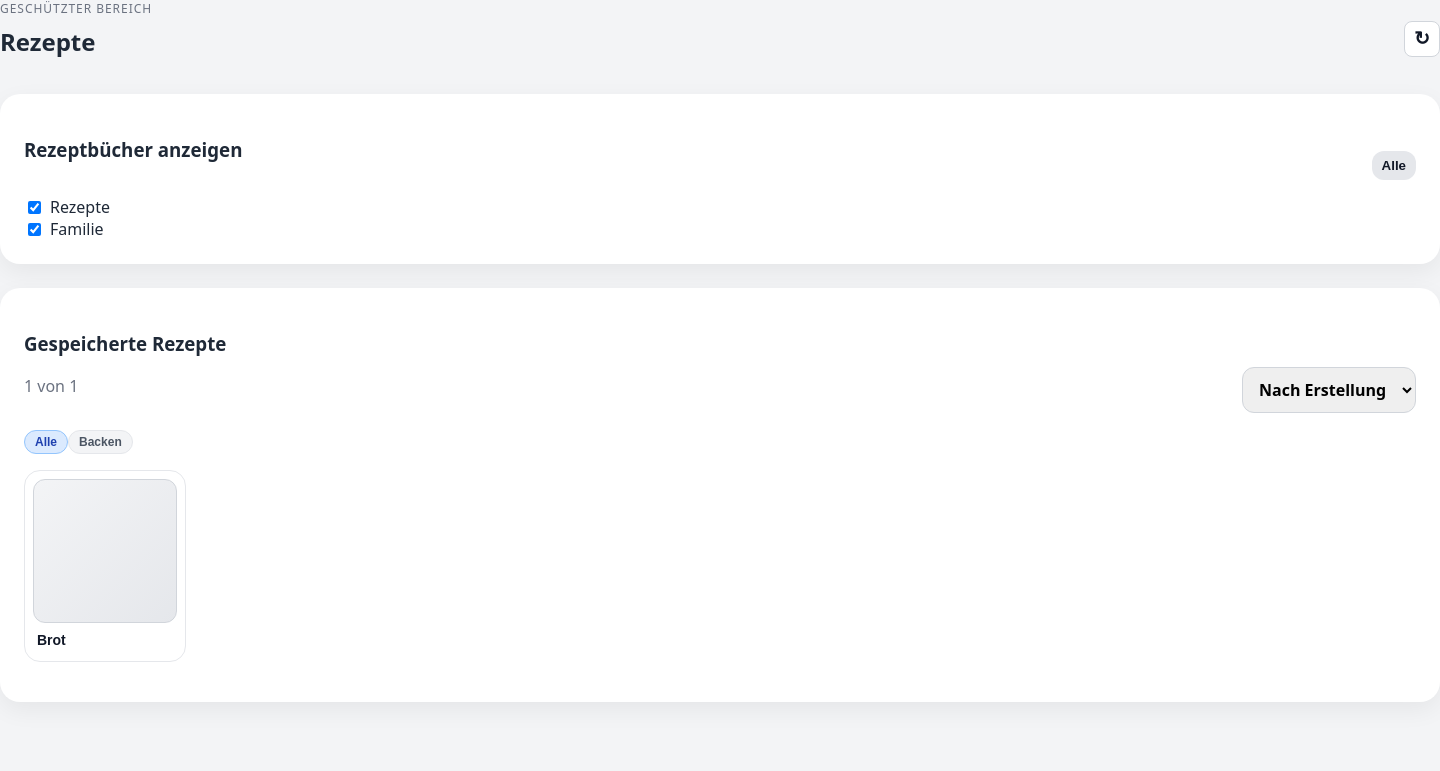
Test case: RecipeSection › refreshes recipe overview after saving an edited recipe
Expected: the text "Brot" is shown, [37,632,66,648]
Click the button with aria-label "Rezept anzeigen Brot".
click(105, 566)  # box [24,470,186,662]
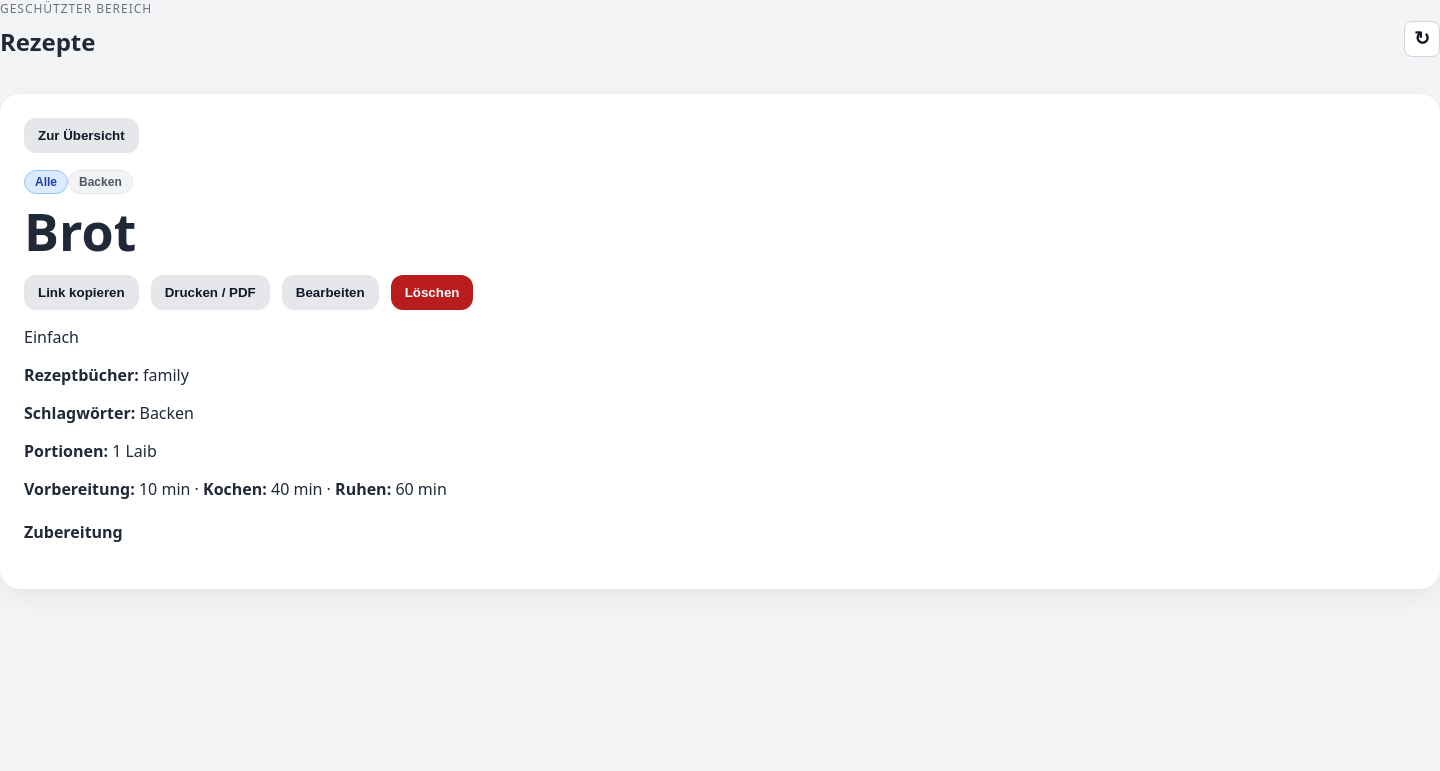
Click the button "Bearbeiten".
click(330, 293)  # box [282,275,379,310]
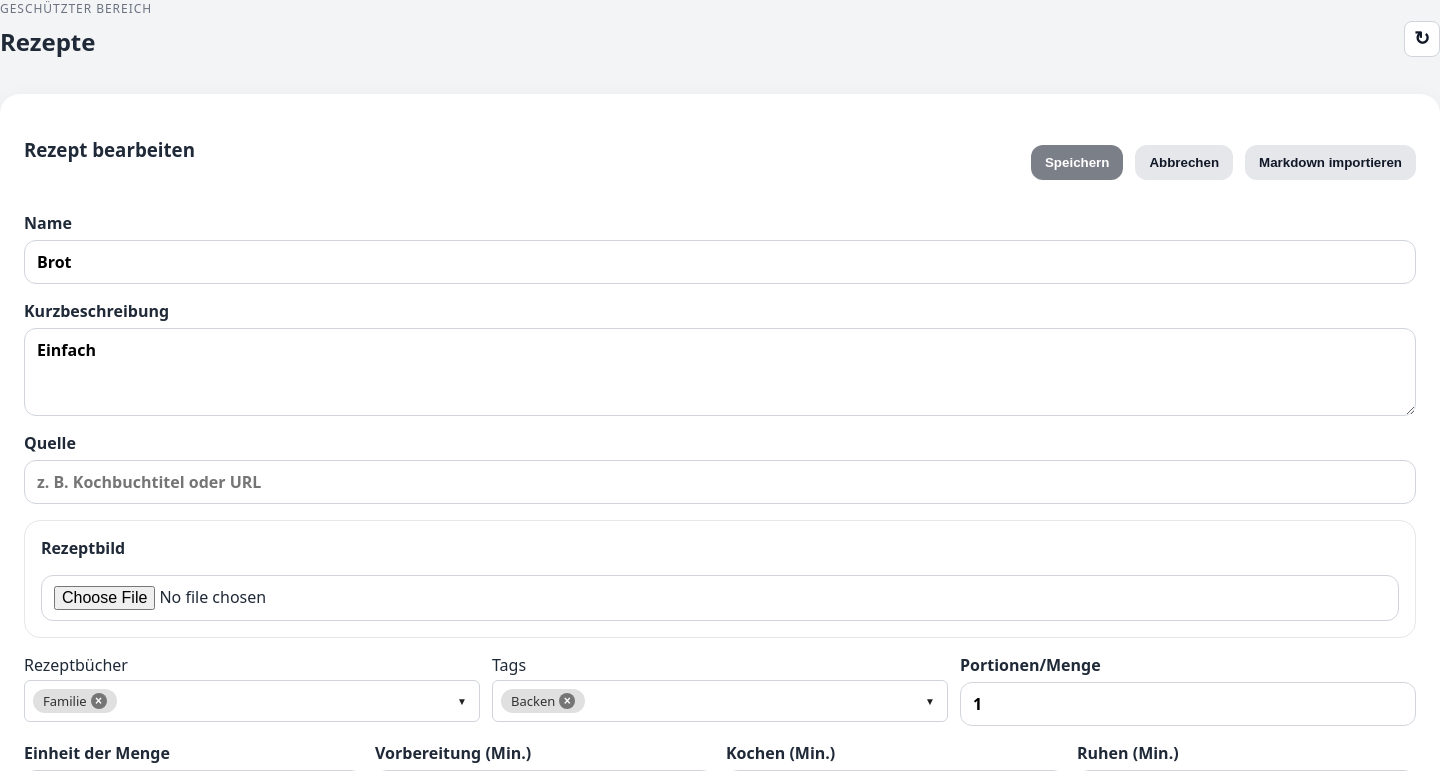
Replace the text in the field labelled "Name" with "Brot verbessert" at (720, 262), box [24,240,1416,284]
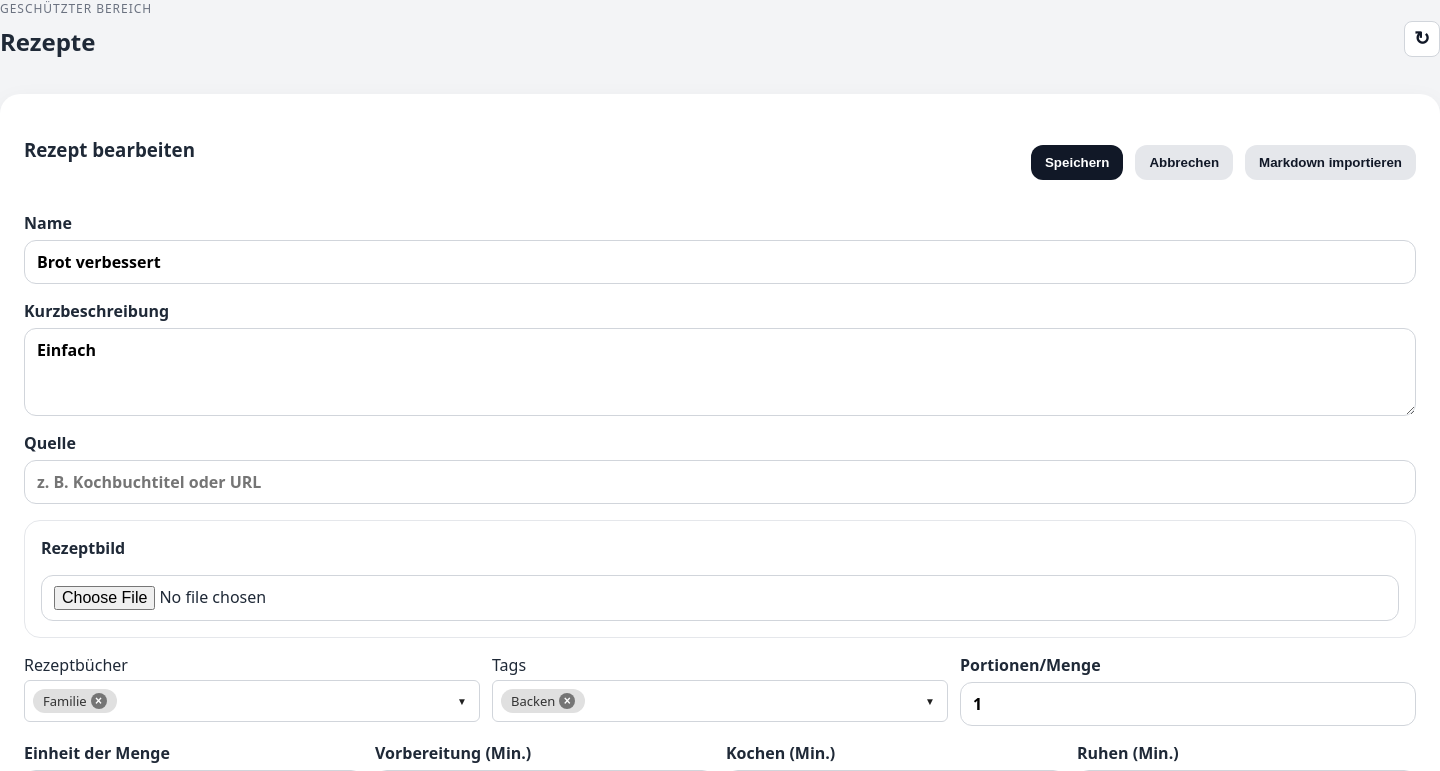
Click the button "Speichern".
click(1077, 163)  # box [1031,145,1124,180]
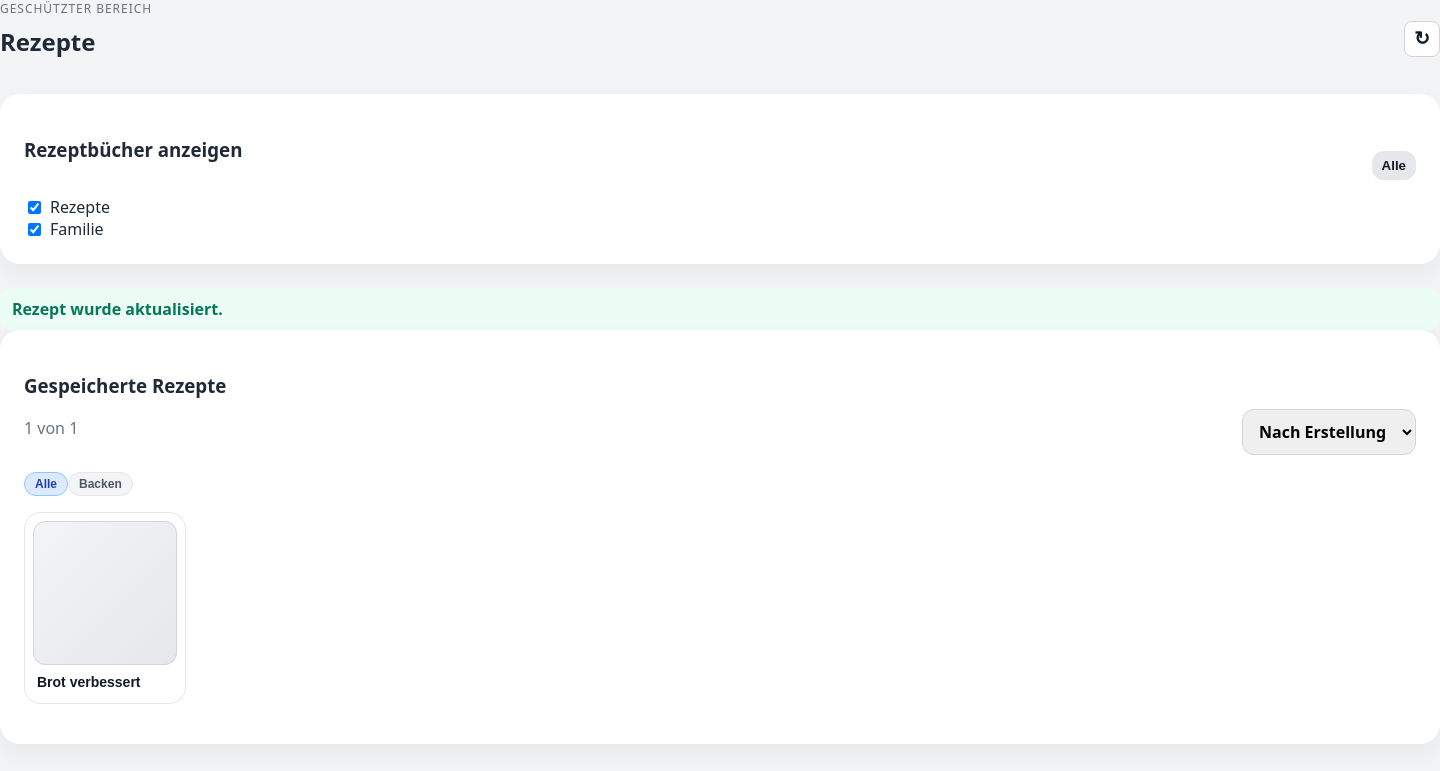
Expected: the text "Brot verbessert" is shown, [37,674,140,690]
